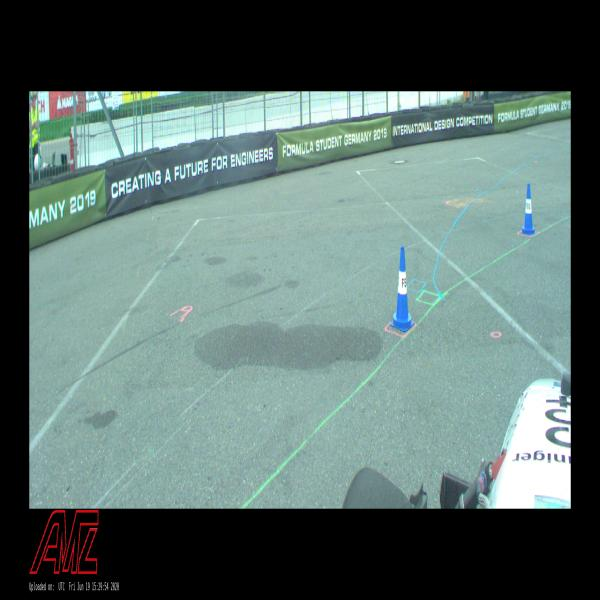blue_cone: (390, 247, 414, 332), (521, 184, 535, 234)
